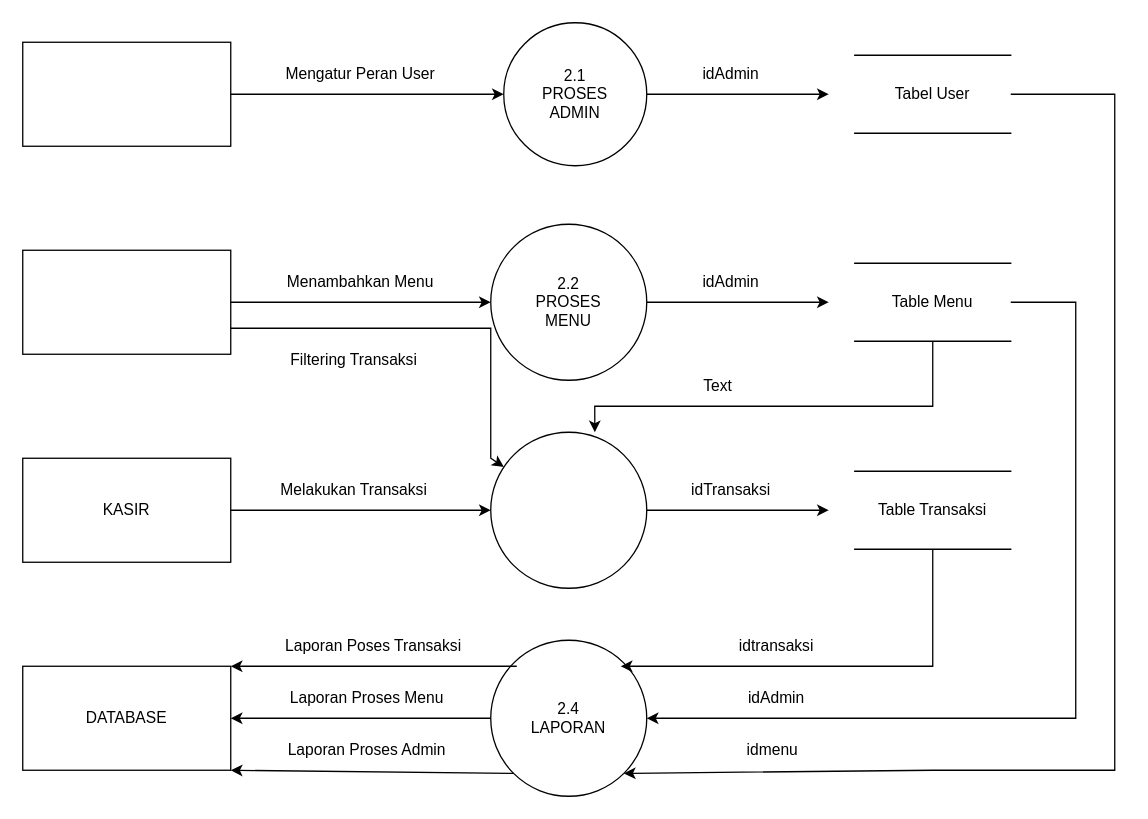
Image size: 1148x819. Some labels were removed from this diagram. The centre of each missing label's shape, as x and y in pixels:
2.3 PROSES TRANSAKSI: point 568,509
ADMIN: point 126,93
MANAGER: point 126,301
